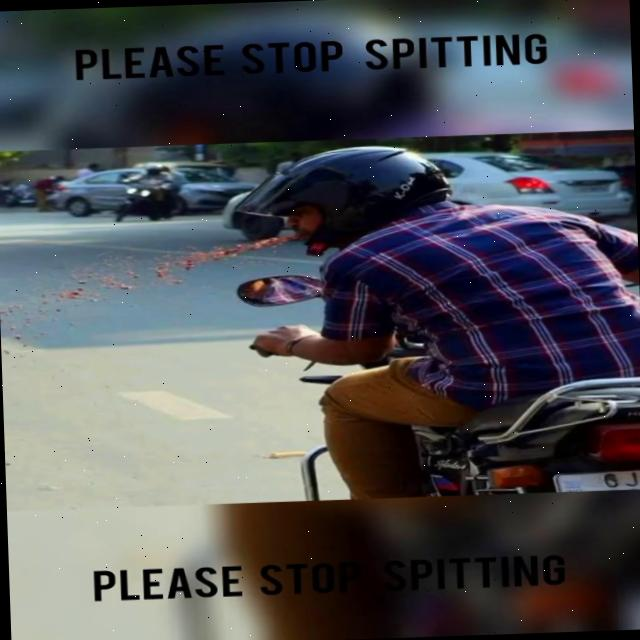spit: (0, 213, 314, 355)
